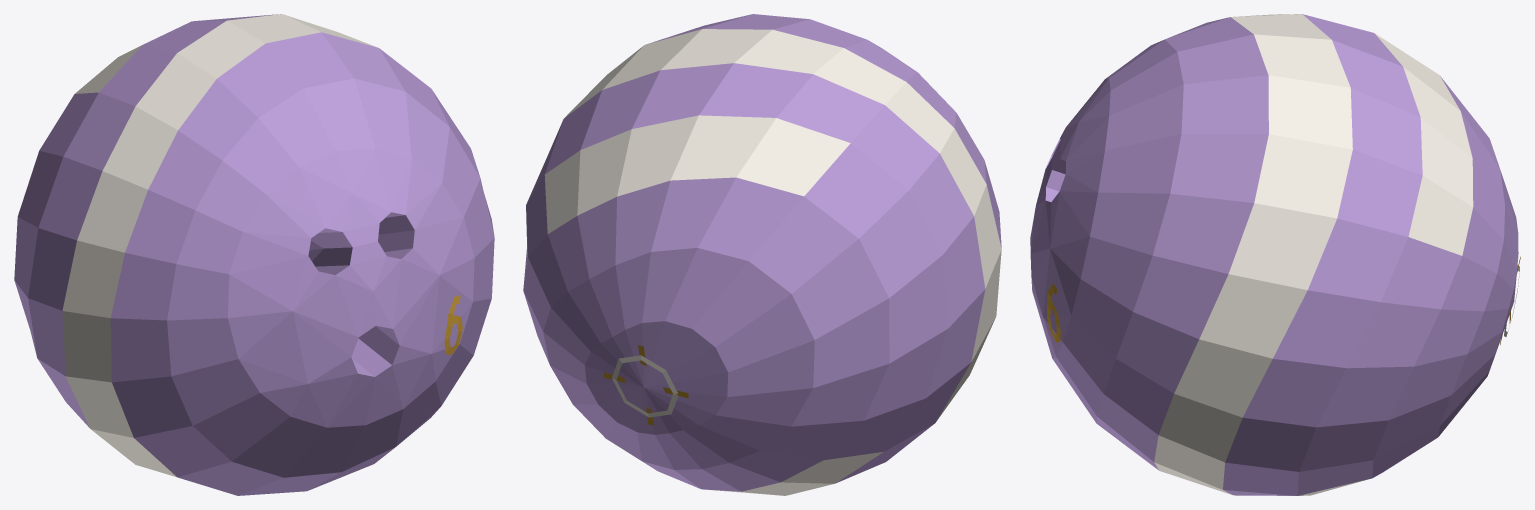
Rendered from cozy_bowling_ball_06lb.glb.
3 renders of one model, left to right at view 1: azimuth 30°, elevation 25°; view 2: azimuth 150°, elevation 25°; view 3: azimuth 270°, elevation 25°, orthographic.
Visible parts, largest first — view 1: Ball_06lb_Mesh; view 2: Ball_06lb_Mesh; view 3: Ball_06lb_Mesh.
Part boxes in pixels (x1=…): Ball_06lb_Mesh: x1=14, y1=14, x2=494, y2=495; Ball_06lb_Mesh: x1=523, y1=14, x2=1001, y2=495; Ball_06lb_Mesh: x1=1030, y1=14, x2=1520, y2=495.
Bounding box in the file's own units: 0.2161 × 0.2161 × 0.2171.
